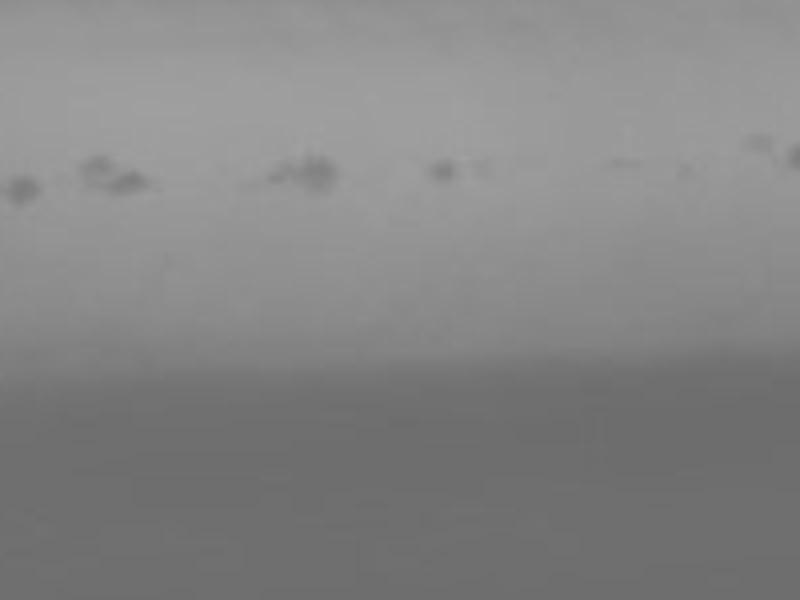defect: (291, 156, 343, 194), (73, 153, 116, 183), (5, 177, 41, 210), (111, 172, 154, 199), (430, 161, 460, 187), (265, 159, 287, 187), (747, 131, 774, 152), (788, 140, 800, 176)
